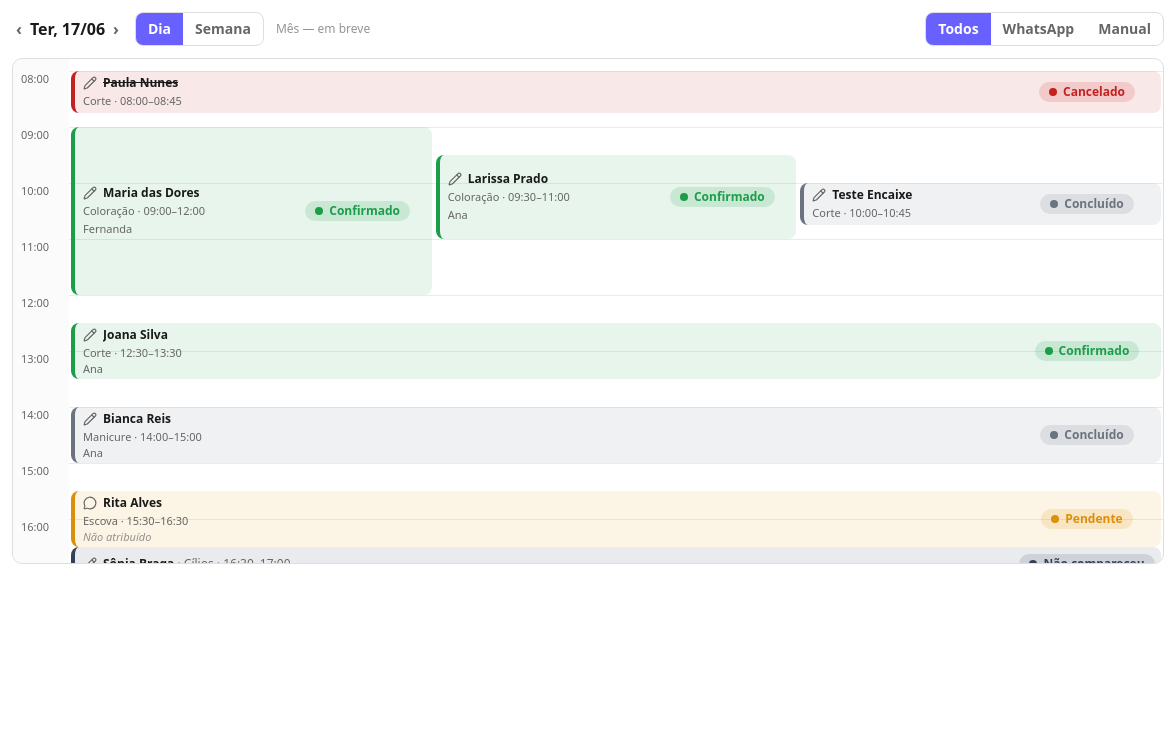
Test: AgendaGrid › alterna para a visão Semana (colunas seg–dom)
This screenshot has width=1176, height=732.
What coordinates should you click on to do the following:
click the button "Semana"
I would click on:
 (223, 29)
Its box is [183,13,263,45].
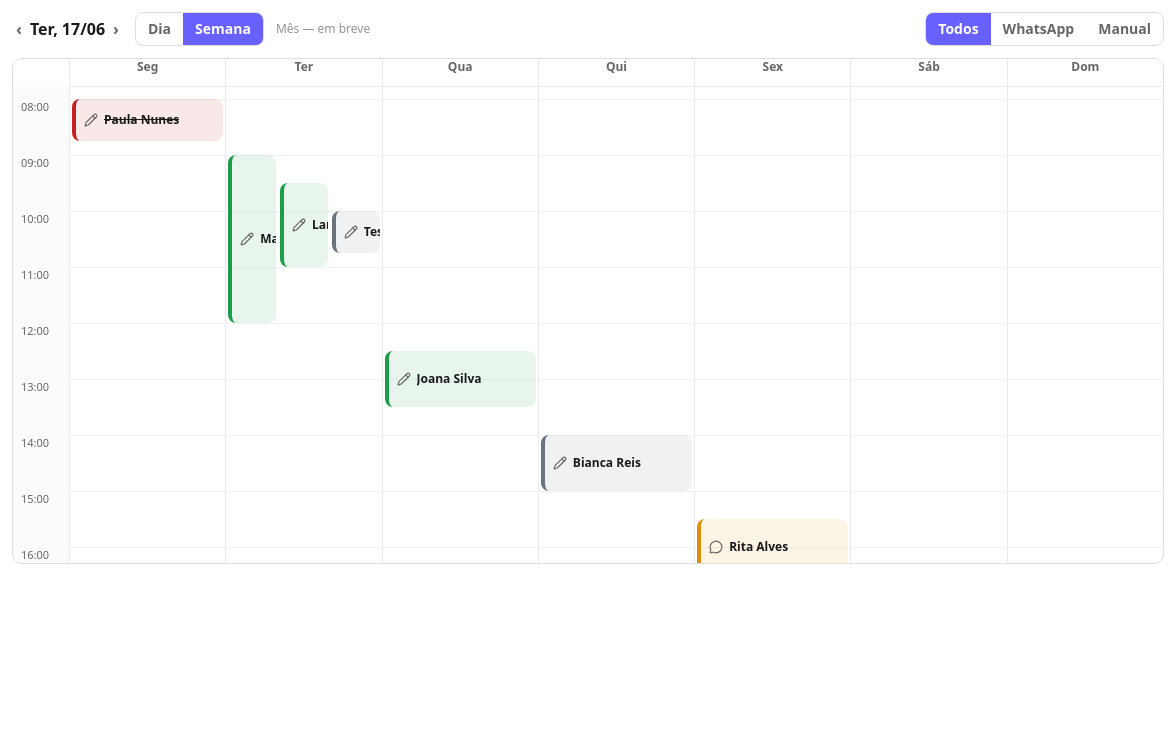
Expected: the text "Seg" is shown, [70,59,225,87]
Expected: the text "Dom" is shown, [1008,59,1163,87]
